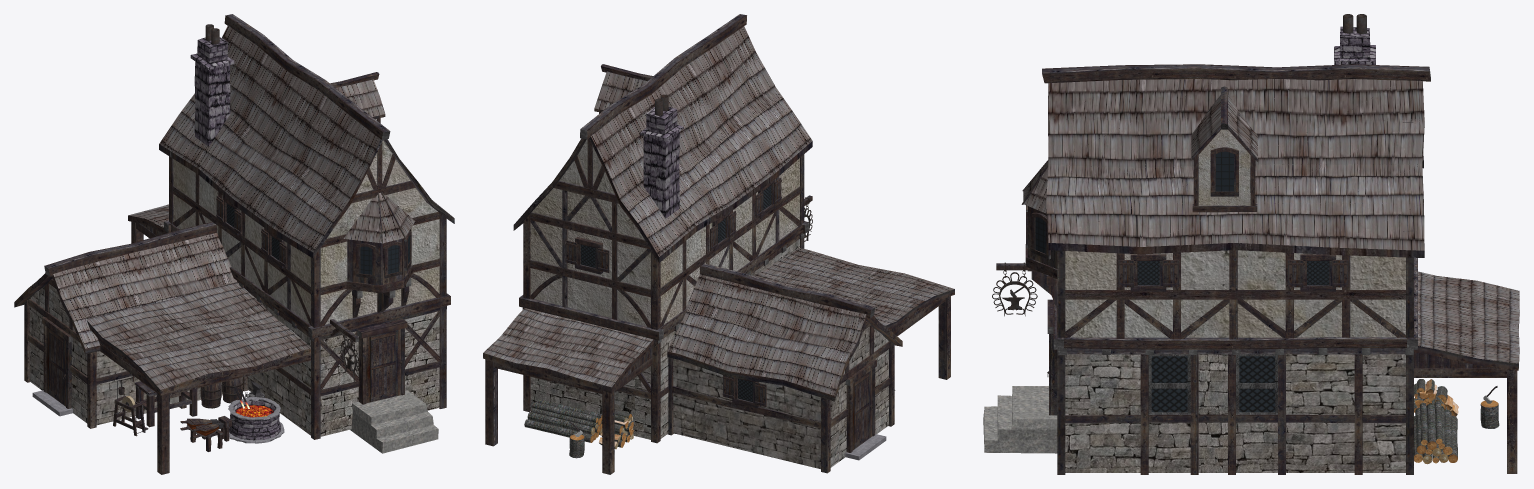
Rendered from summer-smithy.glb.
3 renders of one model, left to right at view 1: azimuth 30°, elevation 25°; view 2: azimuth 150°, elevation 25°; view 3: azimuth 270°, elevation 25°, orthographic. The views are drawn at different scales.
Parts seen in each view (by area): view 1: blacksmith; view 2: blacksmith; view 3: blacksmith.
Boxes of the visible parts, x1,y1,x2,y2 form: blacksmith: (14, 14, 454, 474); blacksmith: (483, 14, 954, 474); blacksmith: (983, 14, 1519, 474).
Bounding box in the file's own units: 9.83 × 9.81 × 12.14.
22 materials, 22 textured.
